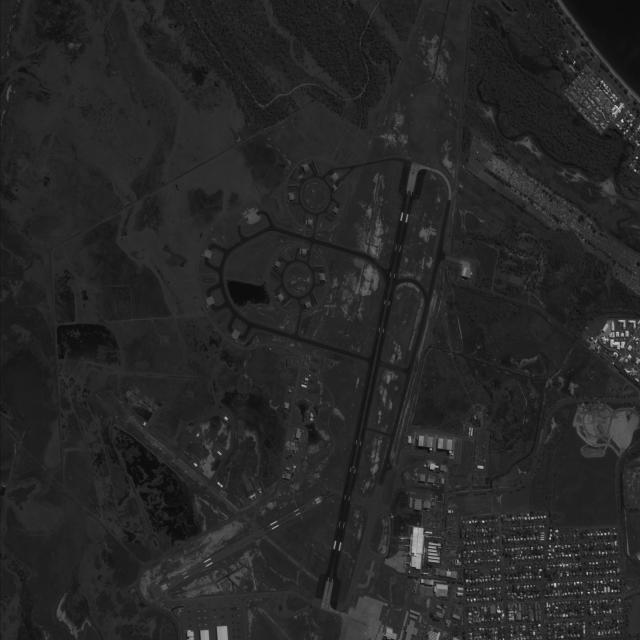plane: (397, 535, 406, 544), (388, 512, 396, 521), (425, 482, 429, 487), (441, 492, 445, 497), (416, 522, 420, 527), (153, 443, 157, 448), (351, 465, 356, 469), (432, 482, 436, 486), (436, 485, 441, 488), (405, 492, 409, 495), (441, 501, 445, 504), (432, 497, 435, 500), (414, 492, 417, 495), (436, 500, 438, 503), (440, 501, 442, 504), (442, 496, 444, 499), (415, 481, 417, 484), (430, 494, 432, 497), (437, 495, 439, 498), (430, 497, 432, 500), (409, 492, 412, 494), (435, 498, 437, 501), (412, 492, 414, 494), (435, 484, 437, 486), (438, 501, 440, 503), (442, 499, 444, 501), (435, 495, 437, 497), (435, 500, 436, 503)
storage-tank: (590, 337, 594, 340)
